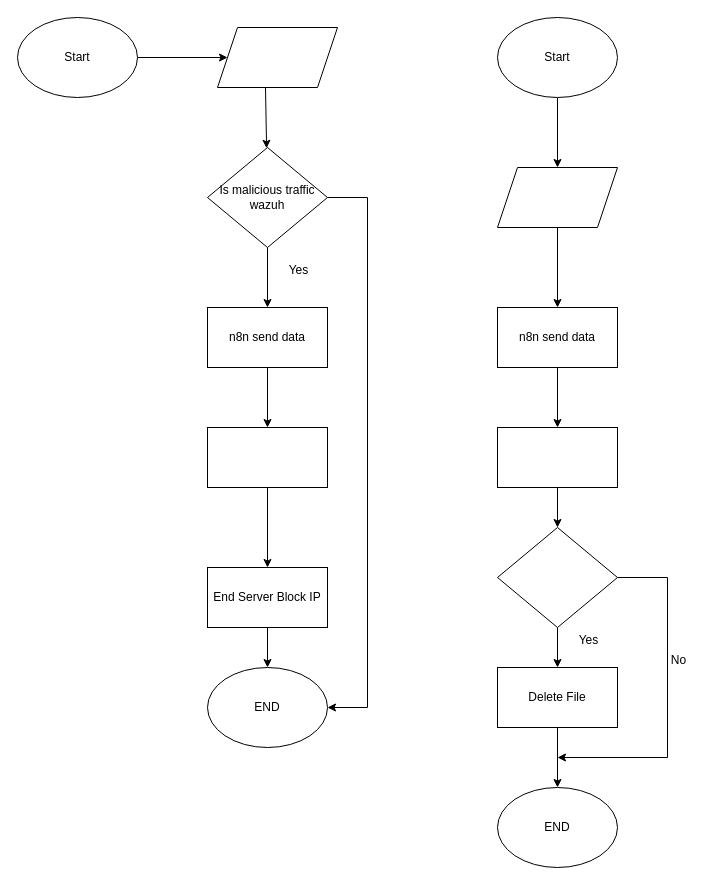
This 716x885 diagram has some shape labels left out. Each missing label, with the centre of its shape:
Centralized Firewall: the point at 557,457
Centralized Firewall Send Command to End Server: the point at 267,457
IP Visitor: the point at 277,57
Is Malicious File ? YARA scan: the point at 557,577
Wazuh log Uploaded File: the point at 557,197
